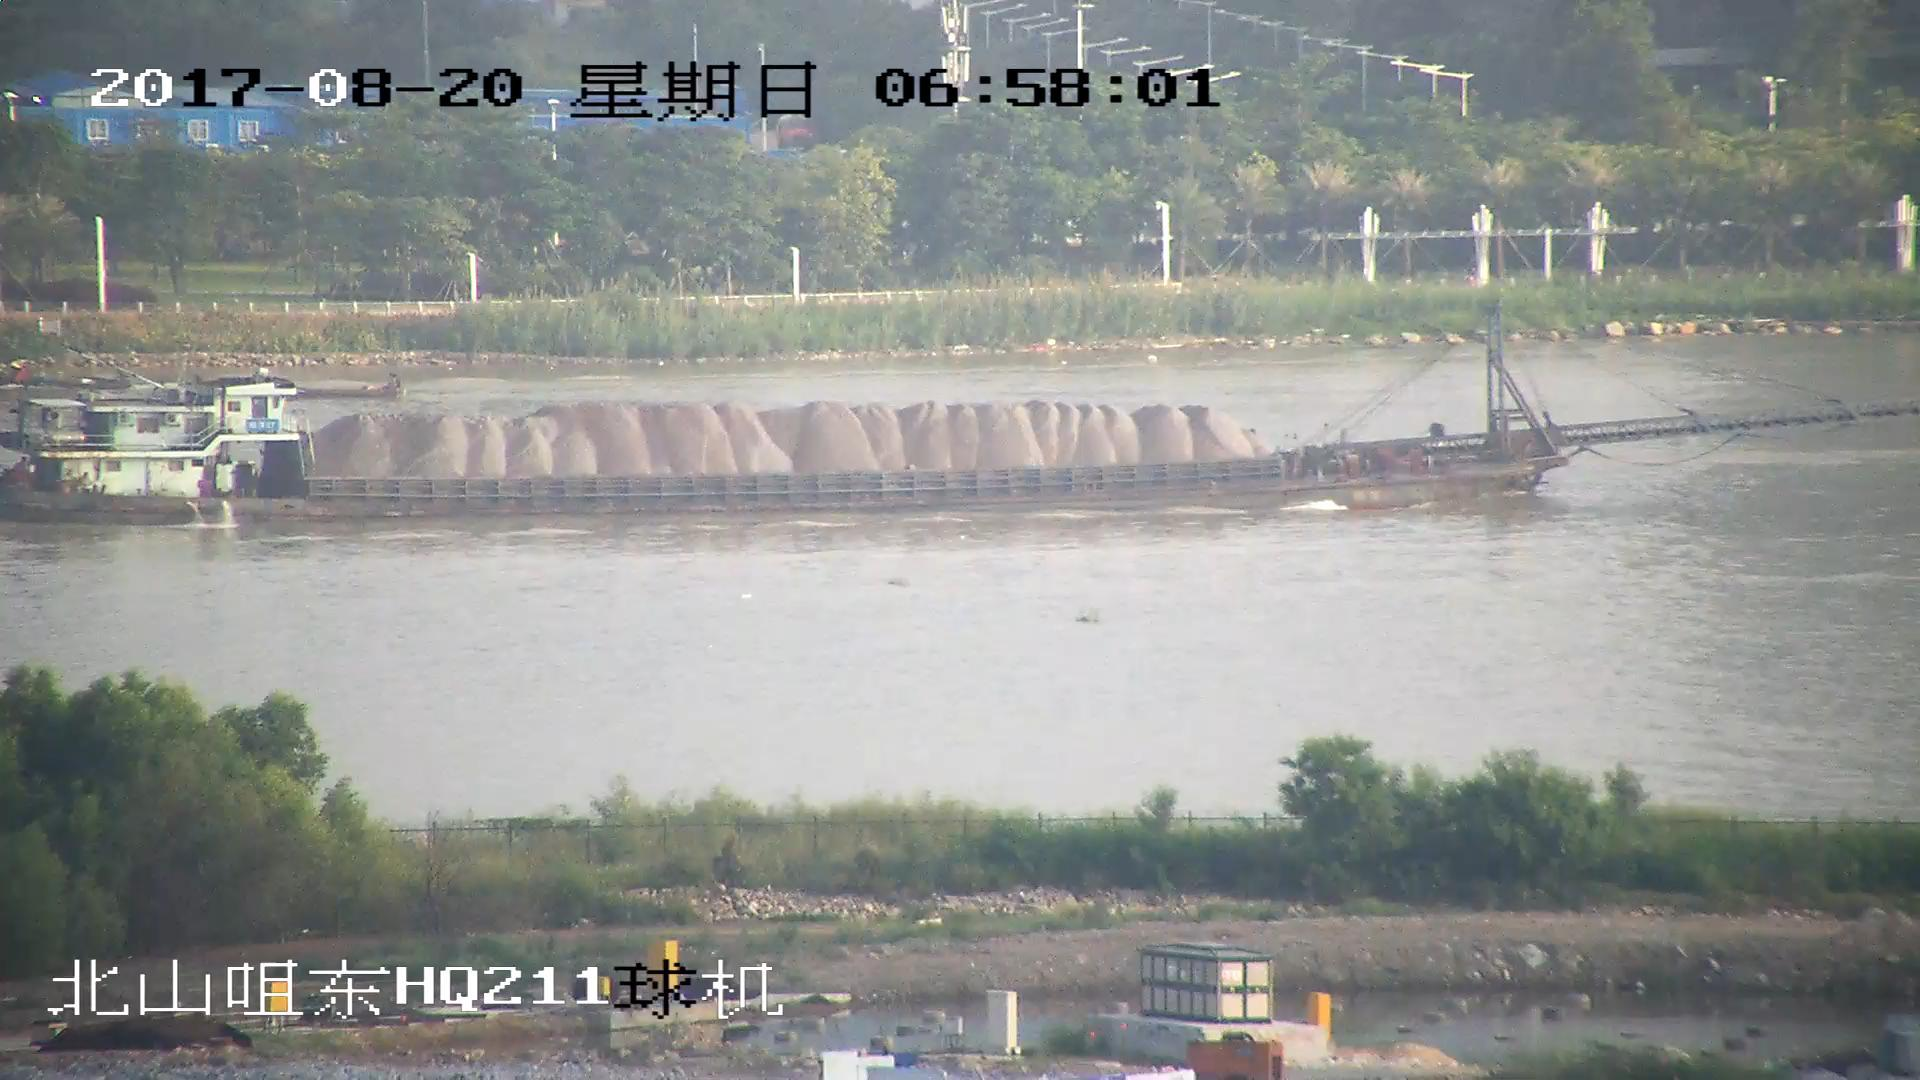Ship: (3, 303, 1920, 526)
